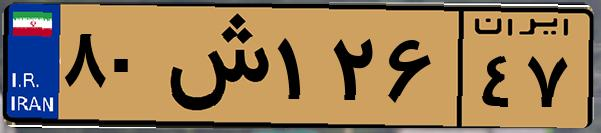0: (110, 28, 158, 98)
1: (270, 28, 330, 110)
2: (330, 28, 385, 110)
4: (475, 38, 525, 113)
6: (385, 28, 445, 110)
7: (525, 38, 570, 115)
8: (57, 26, 110, 100)
ش: (158, 12, 270, 120)
